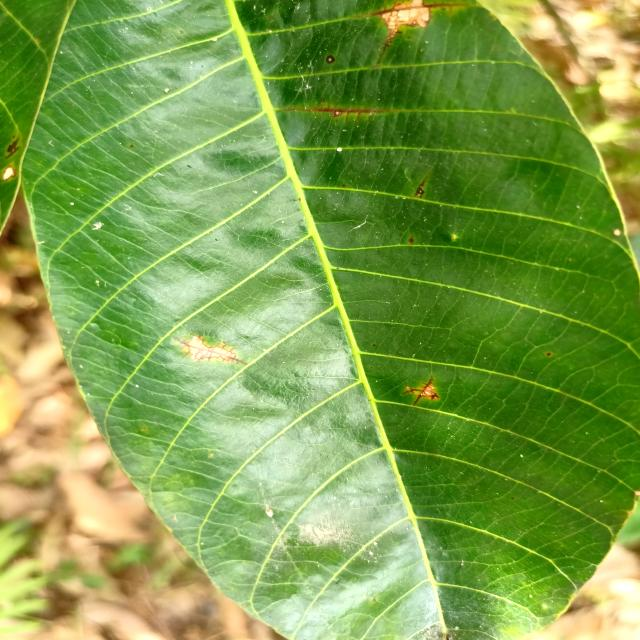Colletotrichum: (325, 55, 336, 63)
Corynespora: (169, 336, 247, 366), (358, 1, 471, 20), (282, 103, 388, 121), (400, 375, 440, 406), (378, 30, 400, 64), (414, 177, 428, 200)
